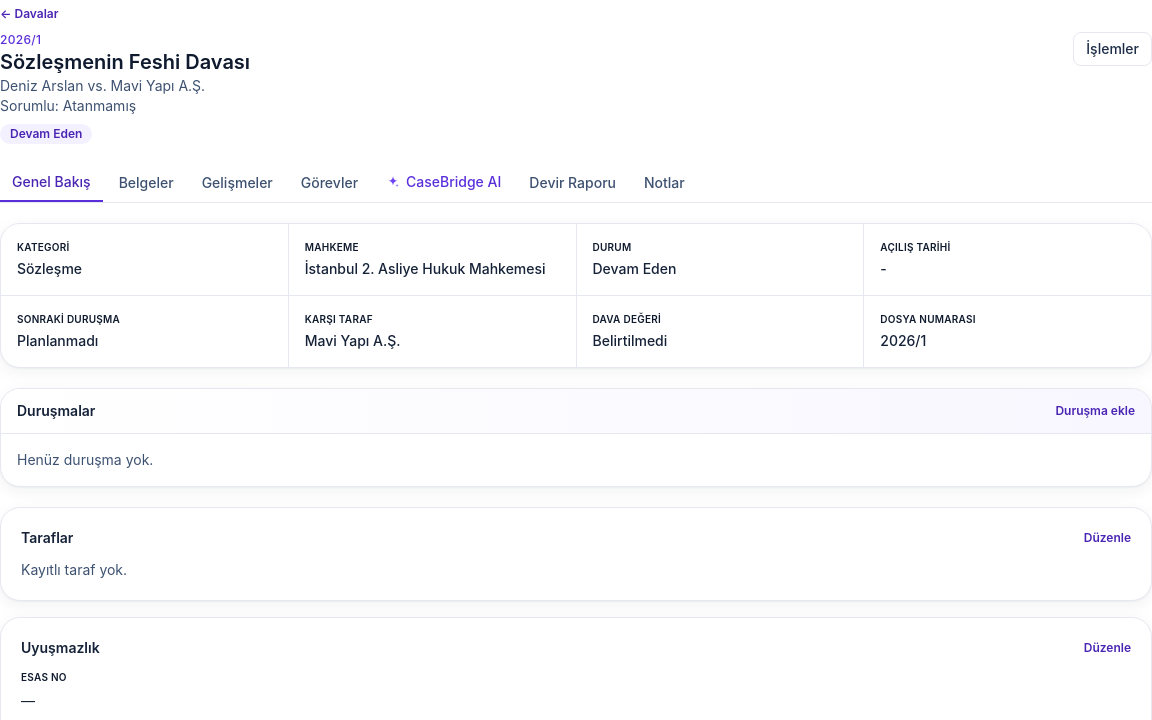
it: CaseDetailView › reloads the hearings and the case after a hearing is added
Click the button "Duruşma ekle": [1095, 411] box [1055, 403, 1135, 419]
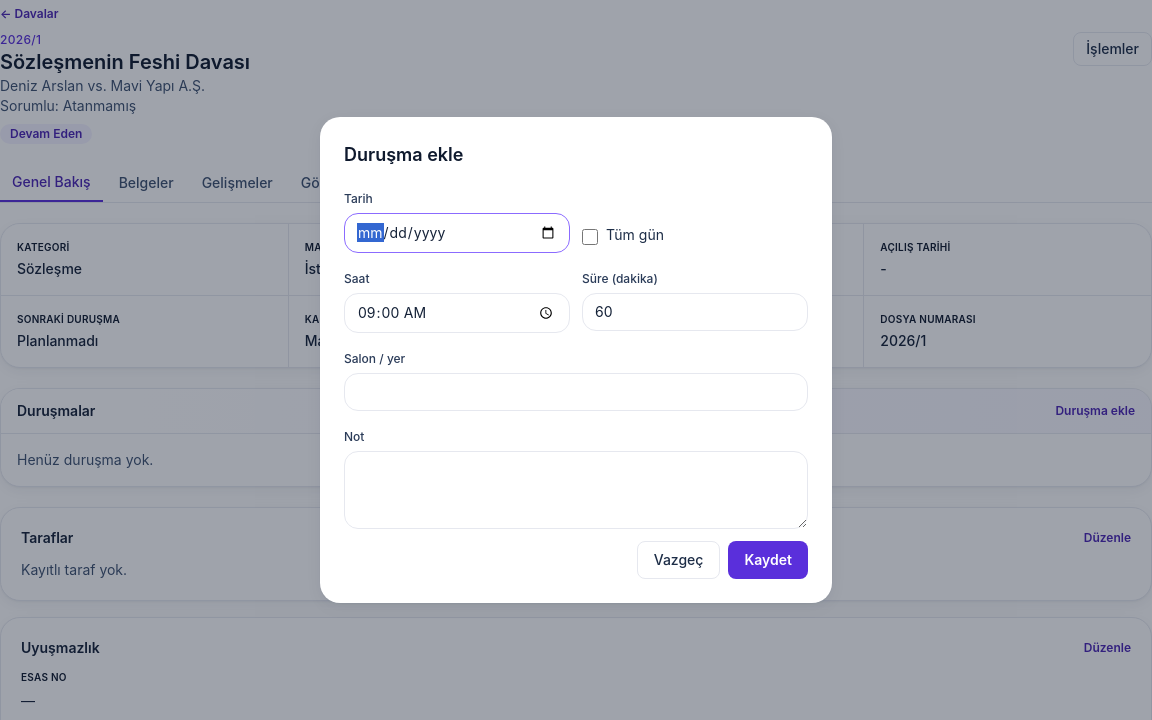
In the date field labelled "Tarih": [457, 233] box [344, 213, 570, 253], type "2099-03-04"
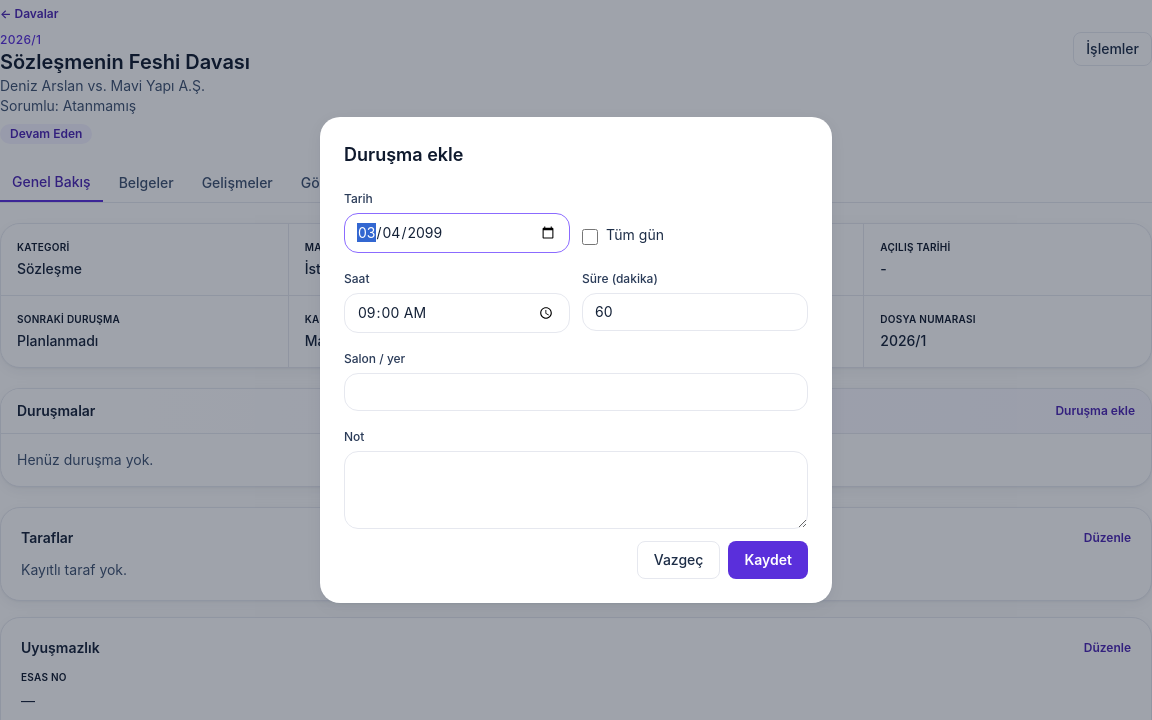
Click the button "Kaydet": [768, 560] box [728, 541, 808, 579]
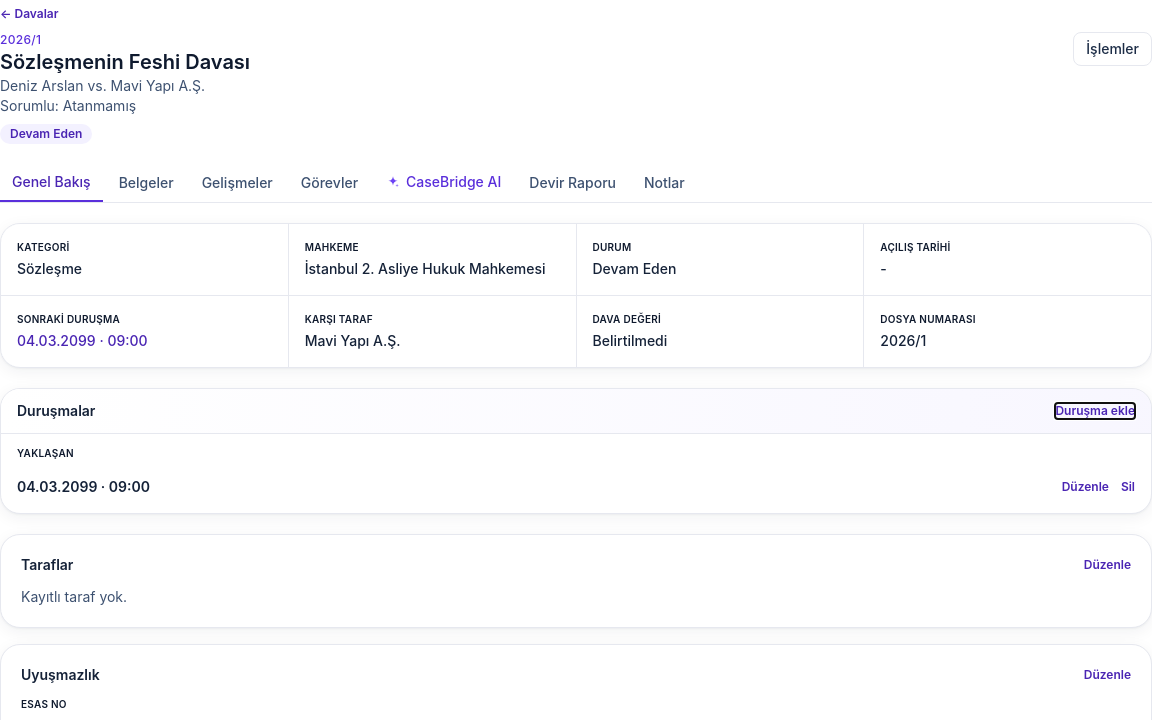
Check: the link "04.03.2099 · 09:00" is shown, box [17, 332, 148, 349]
